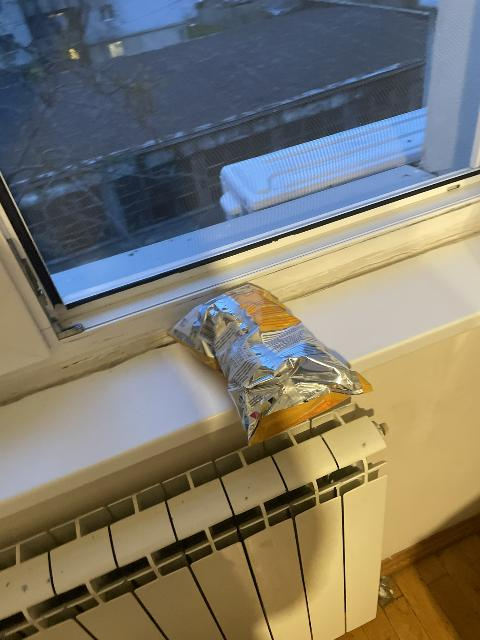Chio Hula Hoops Cheese 70g: (170, 286, 371, 436)
